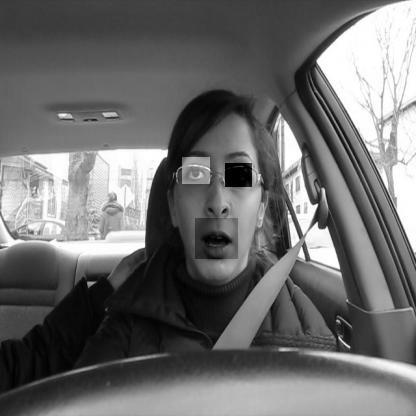seatbelt: (152, 72, 292, 416)
